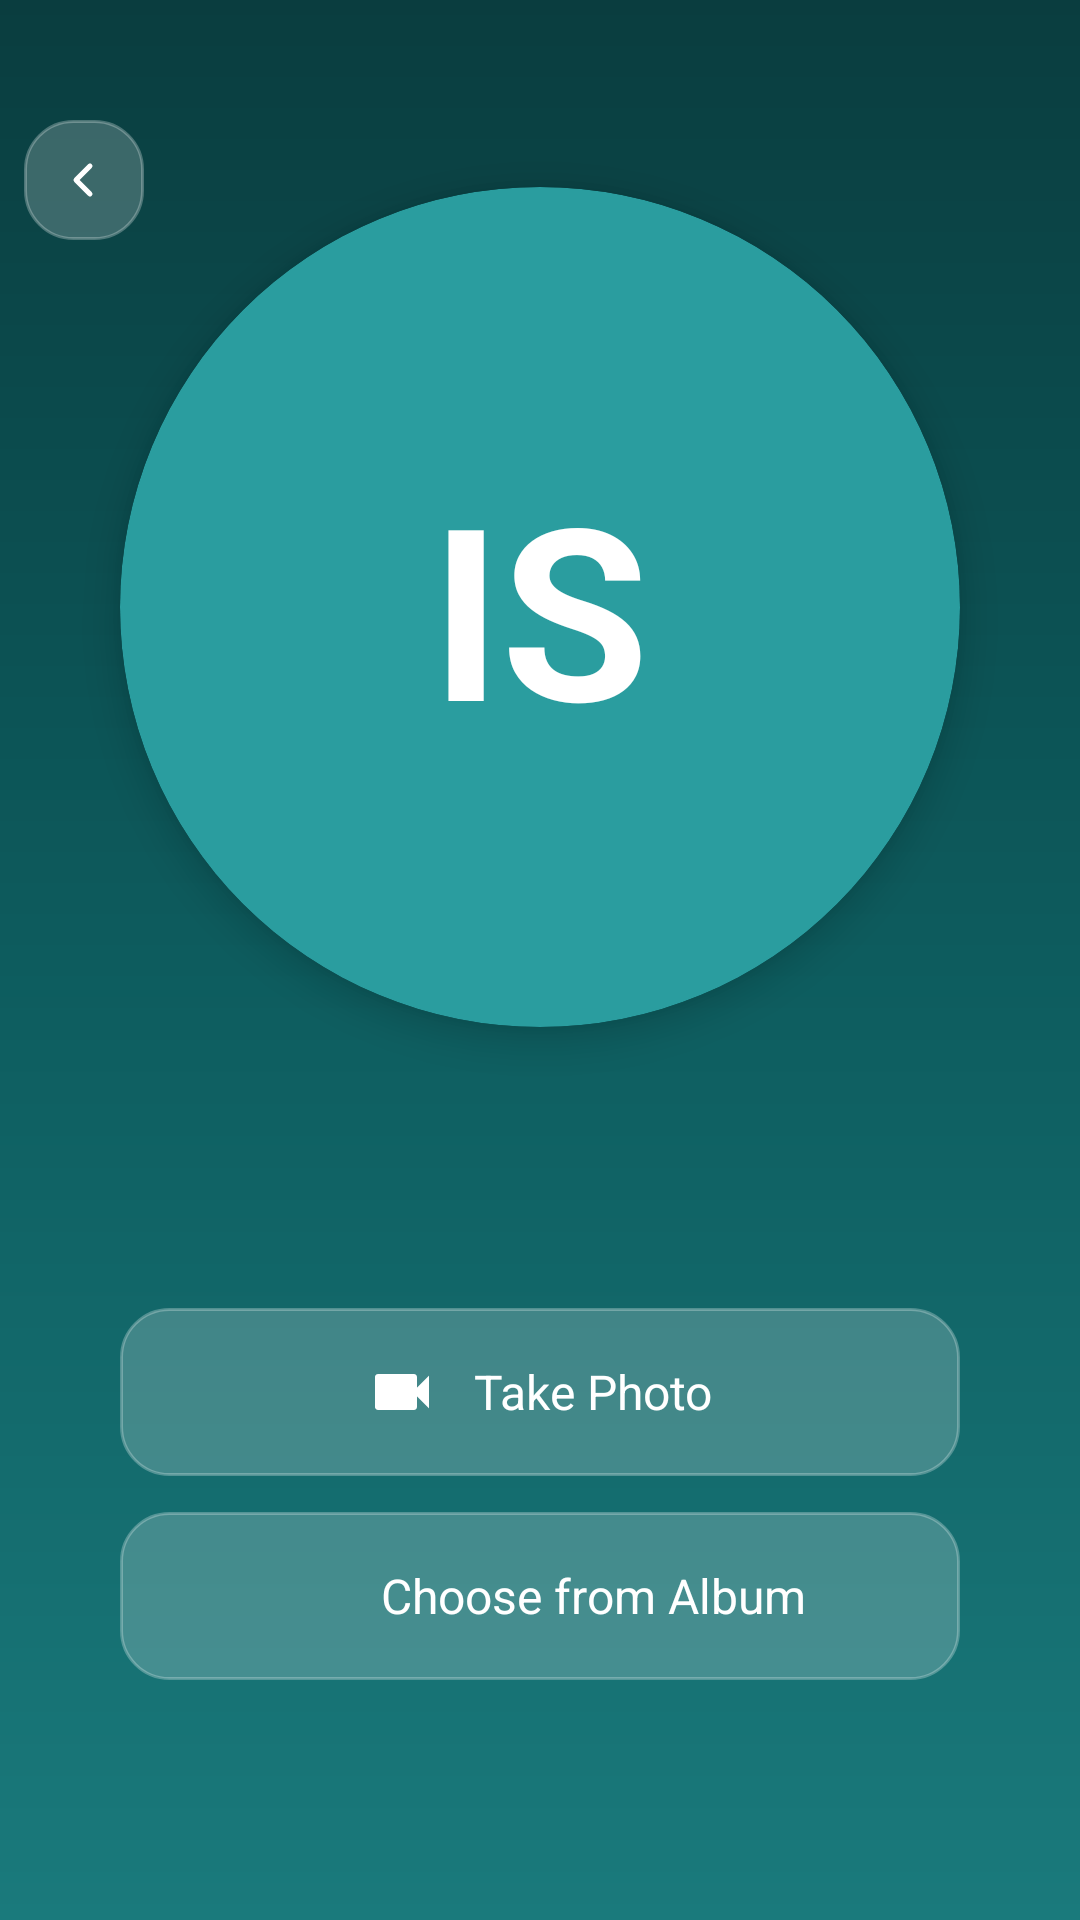

Icon click points for this 1080x1920 phone screenshot, format point (x, y):
Back: point (84, 180)
